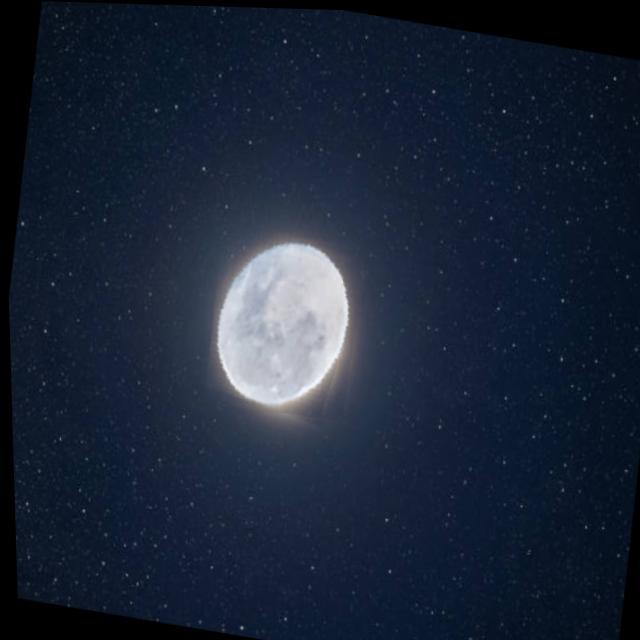moon: (197, 222, 370, 426)
